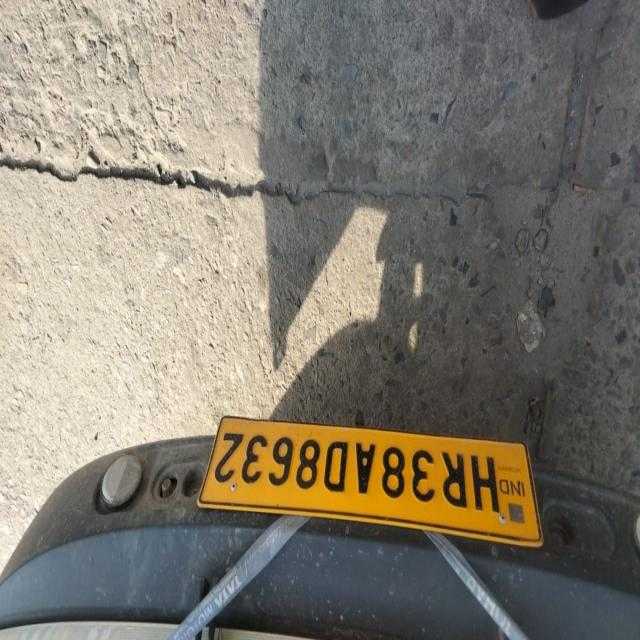License-plate: (212, 416, 509, 534)
